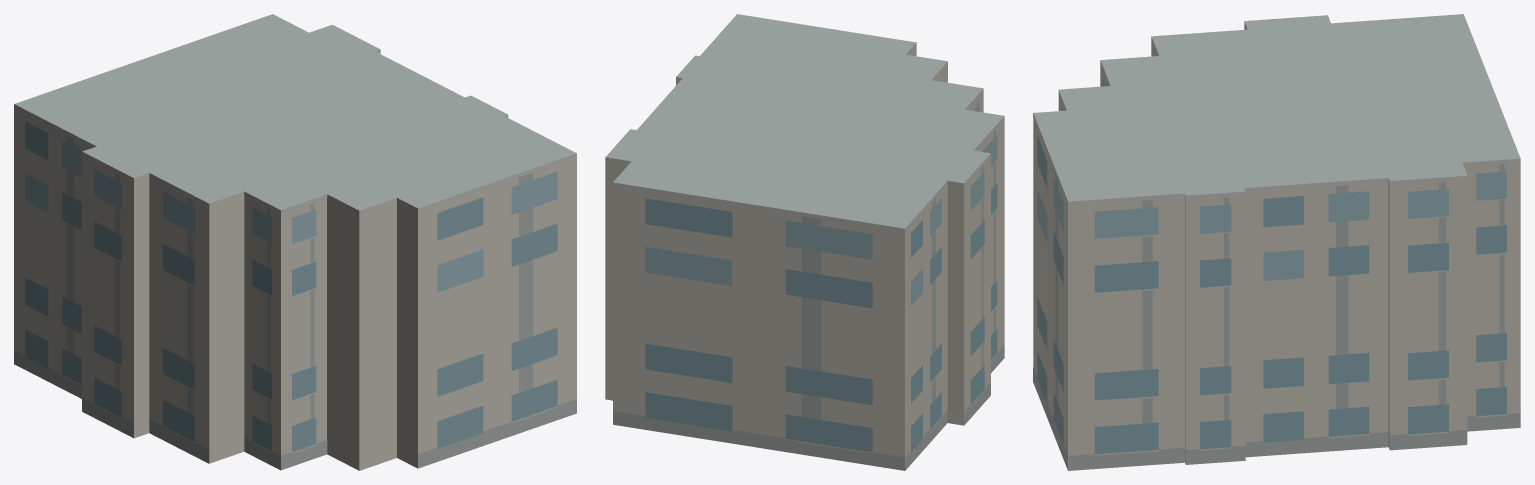
Rendered from residential-d8915044-cda6-475c-8b73-7c5b37e6d0d8.glb.
3 views of the same model, side by side, from view 1: azimuth 30°, elevation 25°; view 2: azimuth 150°, elevation 25°; view 3: azimuth 270°, elevation 25° (orthographic). The views are drawn at different scales.
Parts seen in each view (by area): view 1: residential-d8915044-cda6-475c-8b73-7c5b37e6d0d8.tmp; view 2: residential-d8915044-cda6-475c-8b73-7c5b37e6d0d8.tmp; view 3: residential-d8915044-cda6-475c-8b73-7c5b37e6d0d8.tmp.
Boxes of the visible parts, x1=… form: residential-d8915044-cda6-475c-8b73-7c5b37e6d0d8.tmp: x1=14, y1=14, x2=576, y2=470; residential-d8915044-cda6-475c-8b73-7c5b37e6d0d8.tmp: x1=605, y1=14, x2=1004, y2=470; residential-d8915044-cda6-475c-8b73-7c5b37e6d0d8.tmp: x1=1033, y1=14, x2=1520, y2=470.
Bounding box in the file's own units: 22.8 × 15.25 × 25.04.
